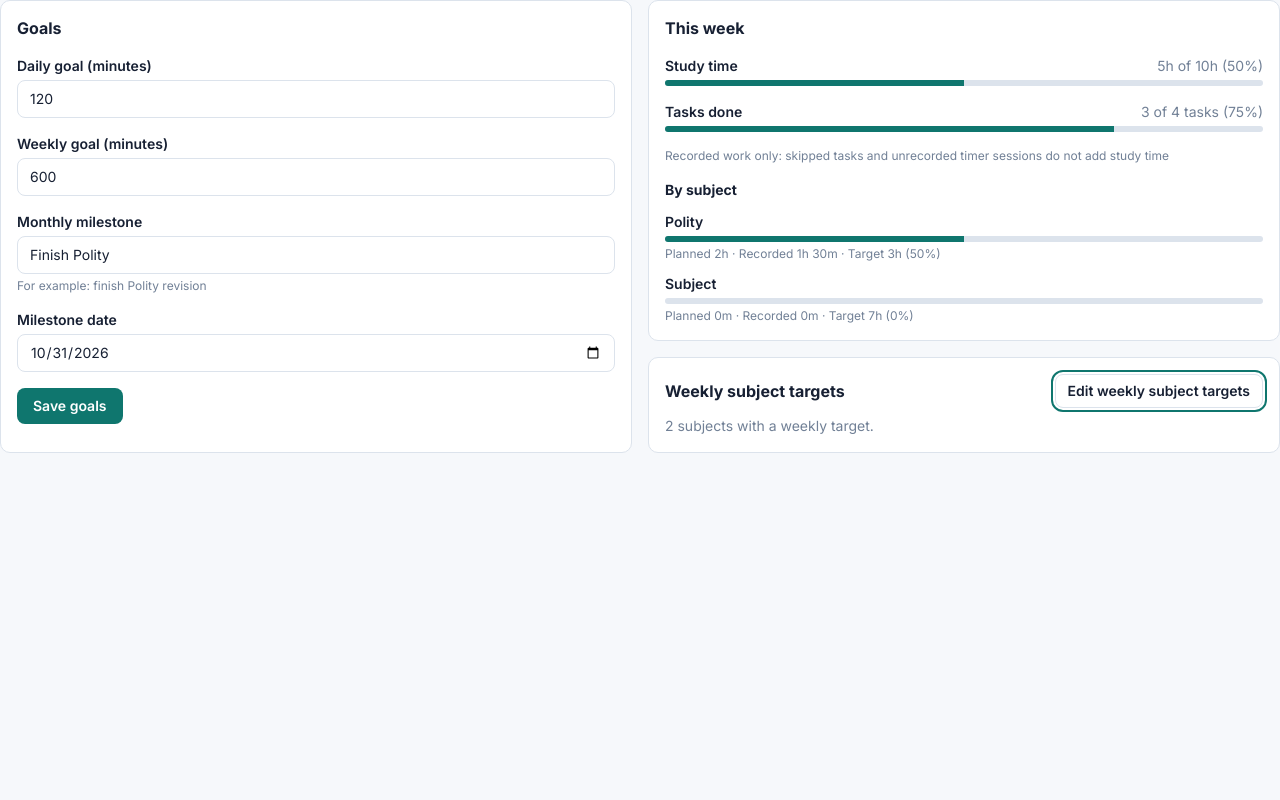
Scenario: GoalsView › keeps saved targets for subjects not listed in the form
Step 1. Click the button "Edit weekly subject targets" → (1159, 391), box [1055,374,1263,408]
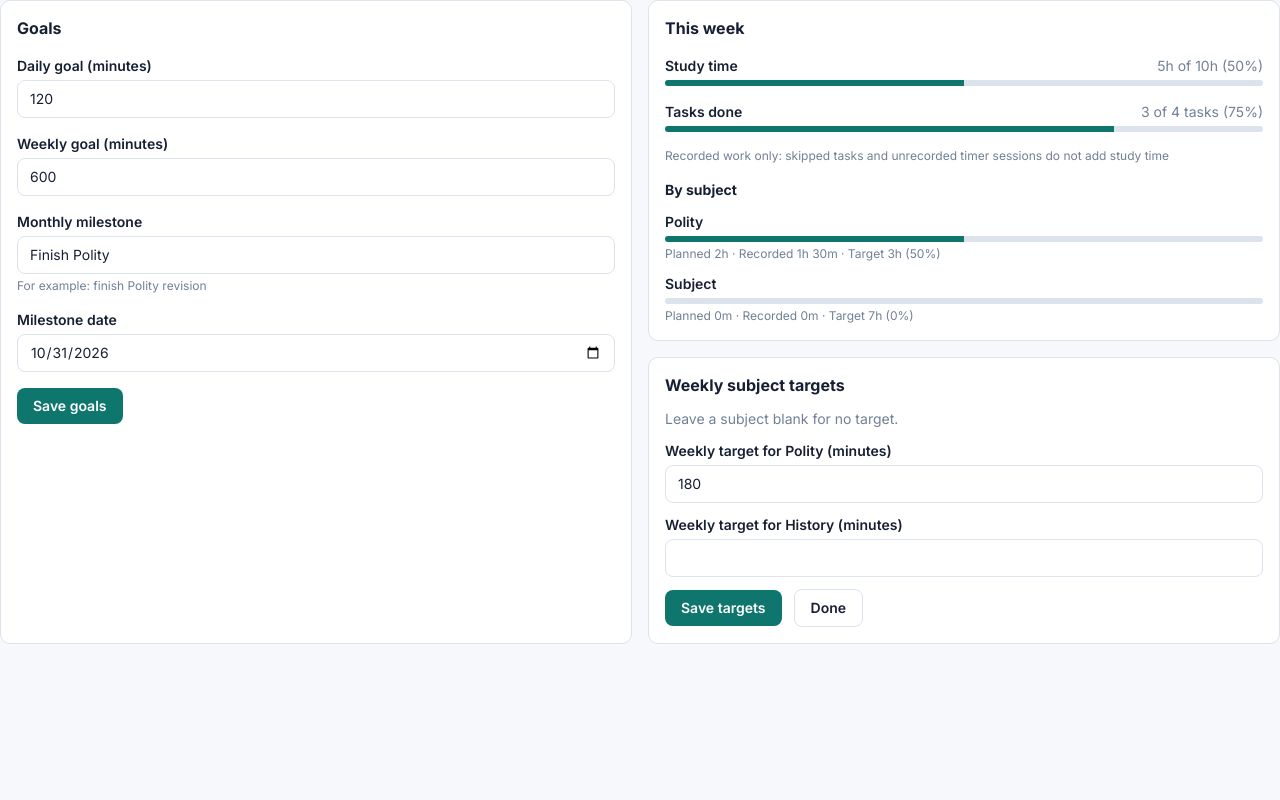
Step 2. Replace the text in the number field labelled "Weekly target for Polity (minutes)" with "200" → (964, 484), box [665,465,1263,503]
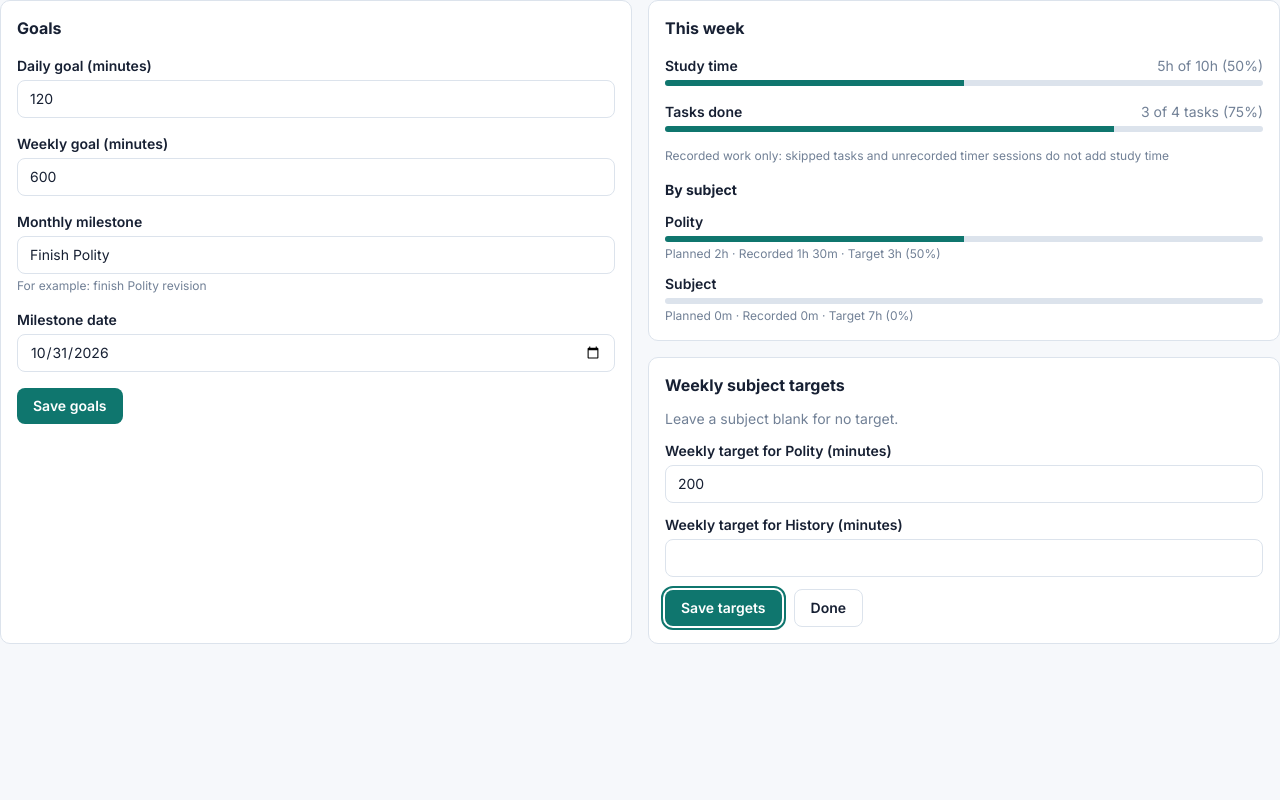
Step 3. Click the button "Save targets" → (723, 608), box [665,590,782,626]
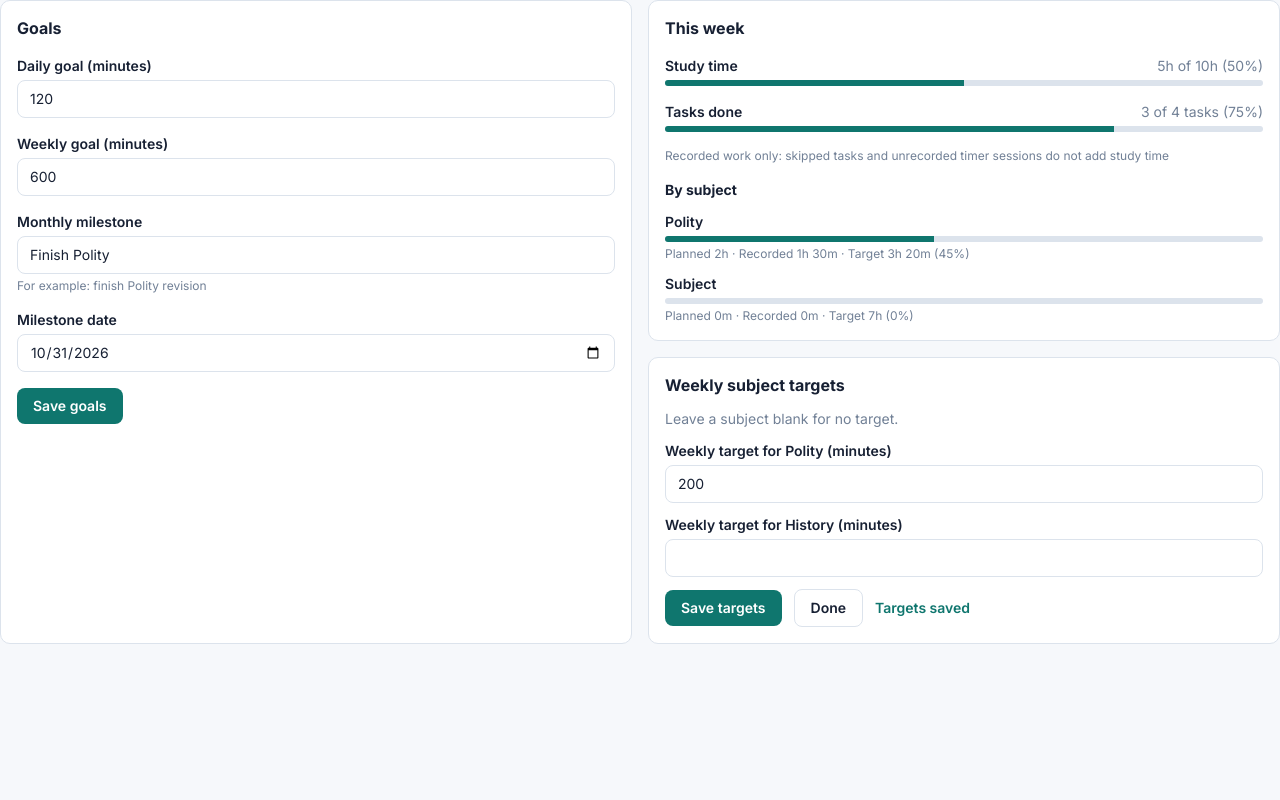
Result: the text "Targets saved" is shown at [875,598,970,618]
